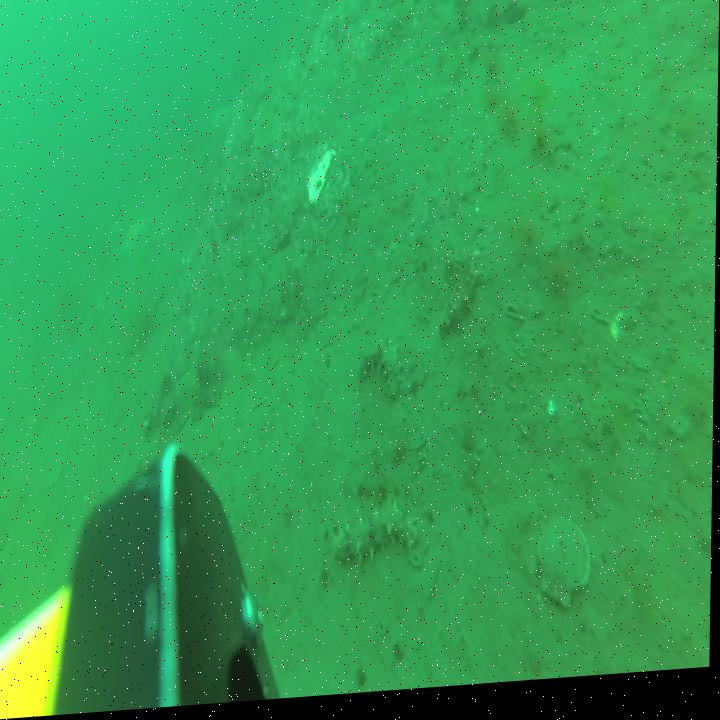holothurian: (333, 506, 420, 573), (441, 258, 482, 340), (361, 341, 404, 409)
scallop: (538, 521, 593, 618)
starfish: (122, 217, 147, 266)
